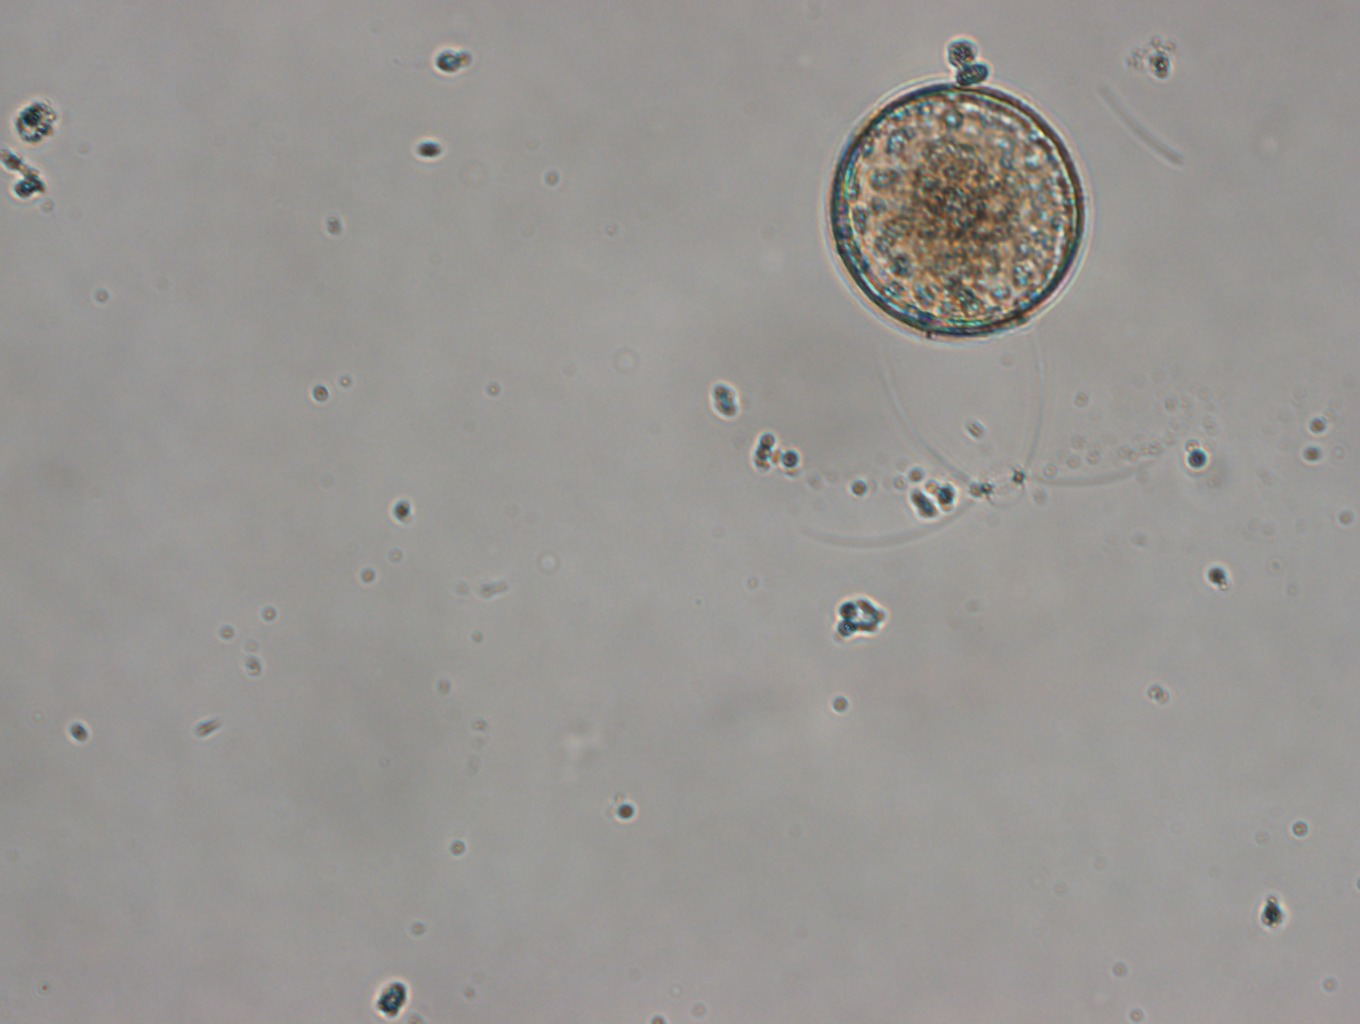coscinodiscus: (819, 81, 1088, 343)
